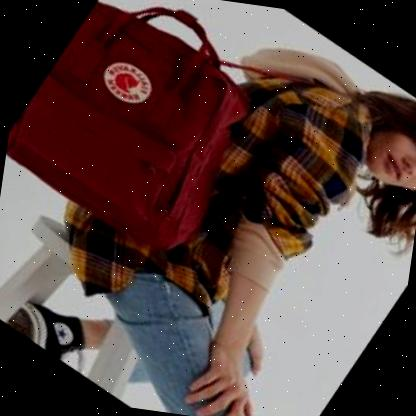bag: (0, 0, 260, 267)
person: (36, 19, 416, 416)
